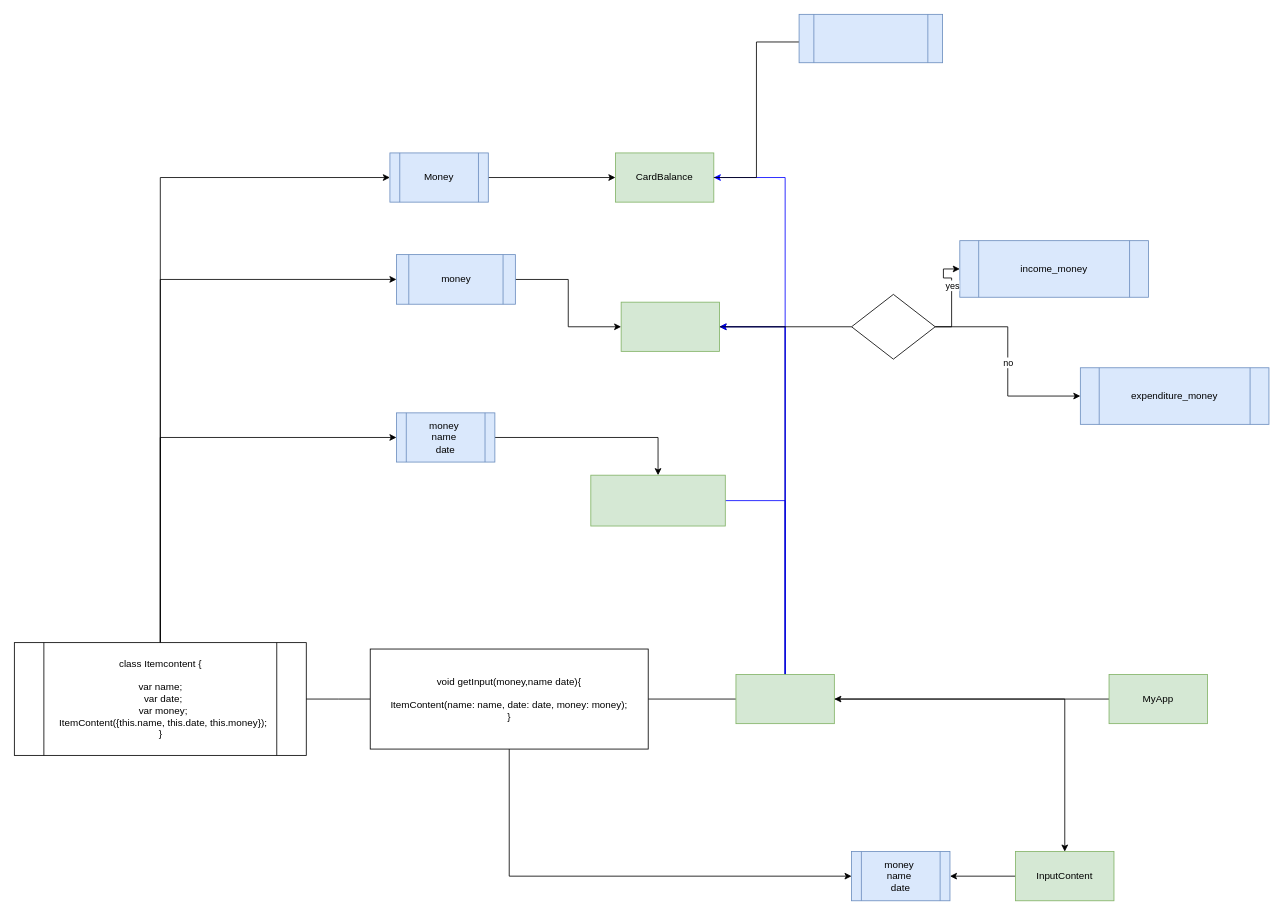
Some shapes in this 1283 by 915 pixel diagram are drawn without their labels. Here are the shapes that lost their labels. From the top down, the centre of each, then its label:
the point at 870,38: now_money+=money
the point at 670,326: CardFinance
the point at 893,326: money > 0
the point at 657,500: CardSpendingContent
the point at 784,699: MyHomePage
